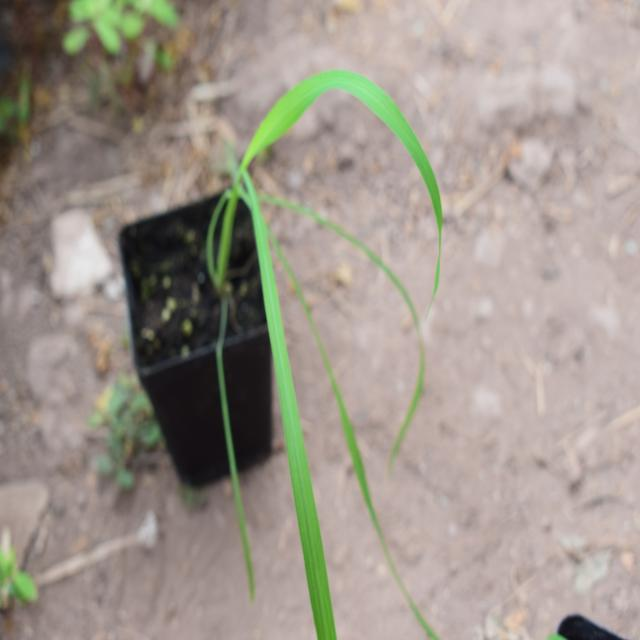barnyard_grass: (169, 63, 443, 629)
